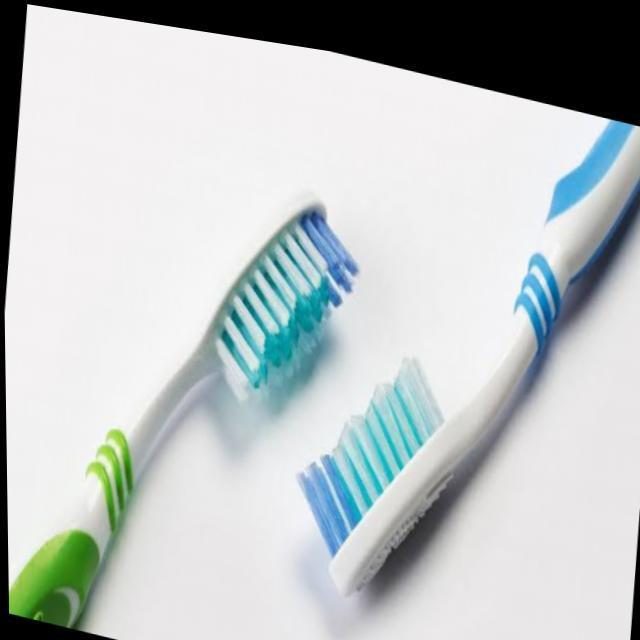toothbrush: (291, 99, 640, 590), (7, 175, 360, 628)
